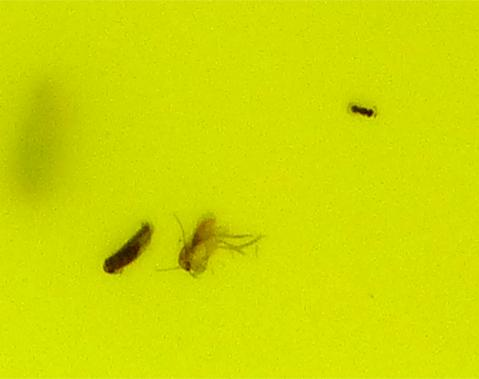Brachycera: (345, 100, 379, 120)
Hemiptera: (100, 219, 155, 277)
Nematocera: (175, 213, 262, 279)
